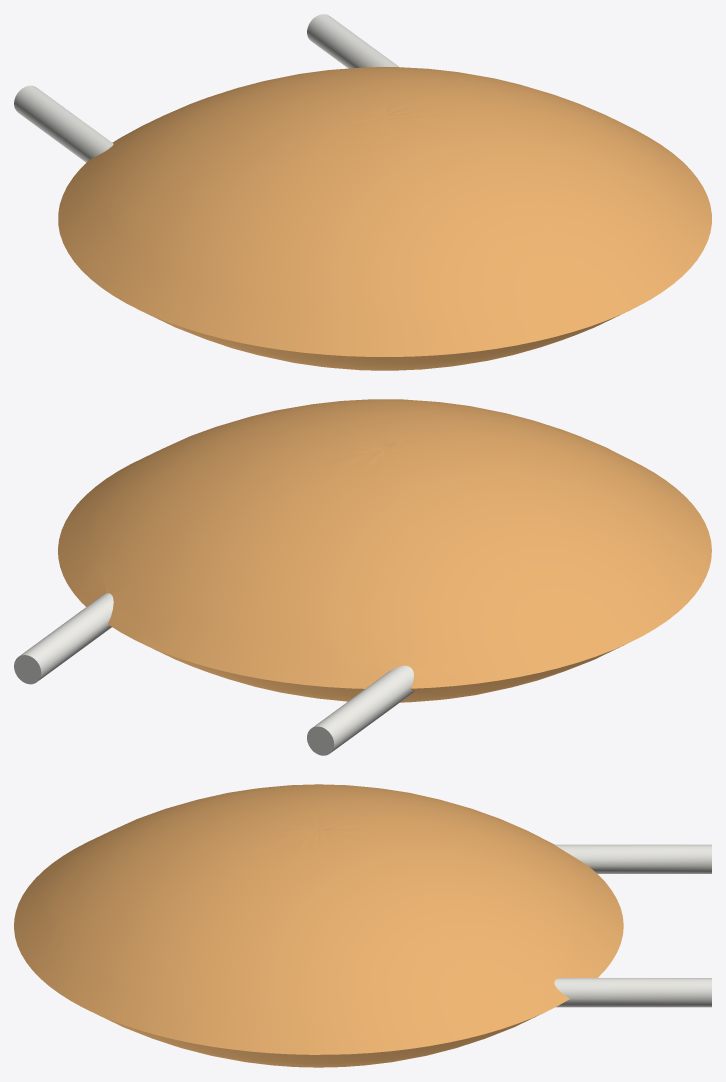
The model's file is C_Disc_D14.5mm_W5.0mm_P7.50mm.glb.
The picture shows the model from 3 angles, top to bottom: view 1: azimuth 30°, elevation 25°; view 2: azimuth 150°, elevation 25°; view 3: azimuth 270°, elevation 25°; orthographic projection. The views are drawn at different scales.
Visible parts, largest first — view 1: Shape_IndexedFaceSet.003, Shape_IndexedFaceSet.002, Shape_IndexedFaceSet.001, Shape_IndexedFaceSet.004; view 2: Shape_IndexedFaceSet.003, Shape_IndexedFaceSet.002, Shape_IndexedFaceSet.001, Shape_IndexedFaceSet.004, Shape_IndexedFaceSet, Shape_IndexedFaceSet.005; view 3: Shape_IndexedFaceSet.003, Shape_IndexedFaceSet.004, Shape_IndexedFaceSet.001, Shape_IndexedFaceSet.002.
Part boxes in pixels (bbox=[...]): Shape_IndexedFaceSet.003: bbox=[58, 67, 711, 356]; Shape_IndexedFaceSet.002: bbox=[146, 310, 629, 370]; Shape_IndexedFaceSet.001: bbox=[14, 85, 113, 162]; Shape_IndexedFaceSet.004: bbox=[307, 14, 399, 68]; Shape_IndexedFaceSet.003: bbox=[58, 399, 711, 688]; Shape_IndexedFaceSet.002: bbox=[139, 642, 625, 702]; Shape_IndexedFaceSet.001: bbox=[313, 665, 413, 752]; Shape_IndexedFaceSet.004: bbox=[19, 593, 113, 680]; Shape_IndexedFaceSet: bbox=[307, 726, 334, 755]; Shape_IndexedFaceSet.005: bbox=[14, 655, 41, 684]; Shape_IndexedFaceSet.003: bbox=[14, 784, 623, 1054]; Shape_IndexedFaceSet.004: bbox=[554, 978, 711, 1007]; Shape_IndexedFaceSet.001: bbox=[554, 844, 711, 873]; Shape_IndexedFaceSet.002: bbox=[97, 1014, 538, 1067].
Bounding box in the file's own units: 5.71 × 1.97 × 6.53.
